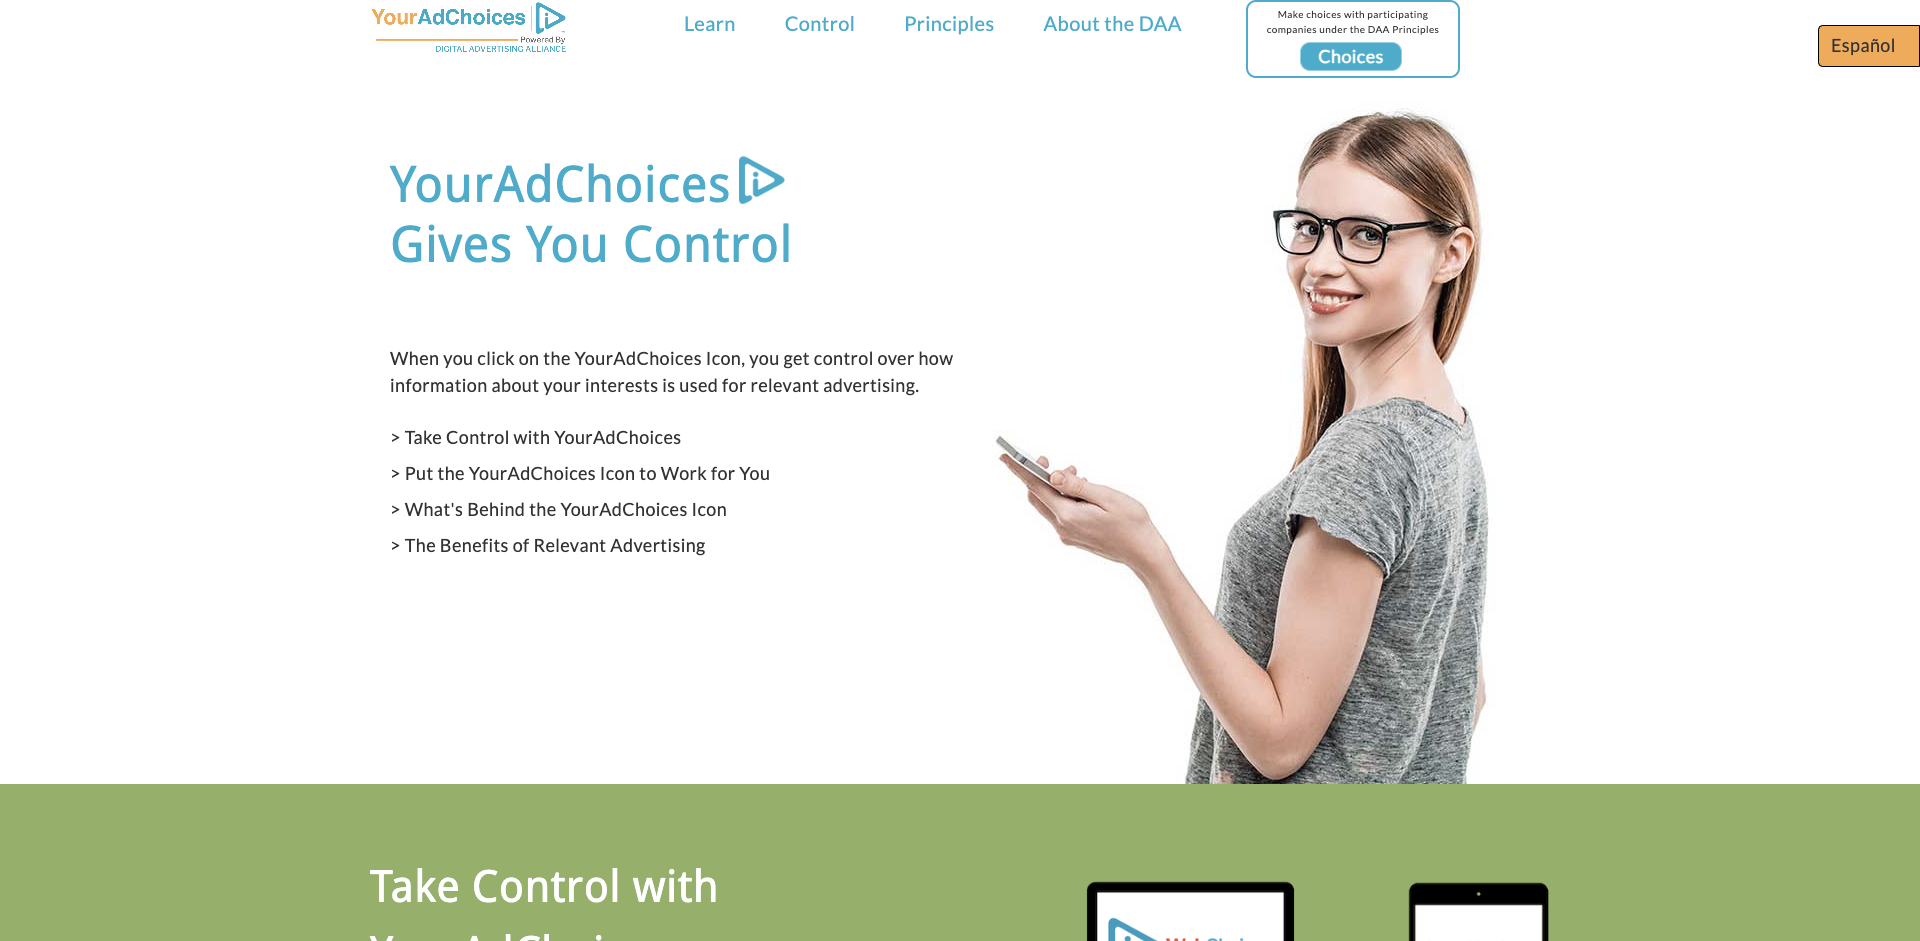button: (1300, 42, 1402, 71)
link: (1036, 0, 1213, 47), (405, 462, 770, 484), (405, 497, 727, 520), (405, 534, 705, 556), (405, 426, 682, 448), (896, 0, 1026, 47), (776, 0, 888, 47), (370, 32, 571, 54), (676, 0, 768, 47), (1319, 45, 1384, 67), (1831, 34, 1896, 56), (866, 85, 950, 89)
